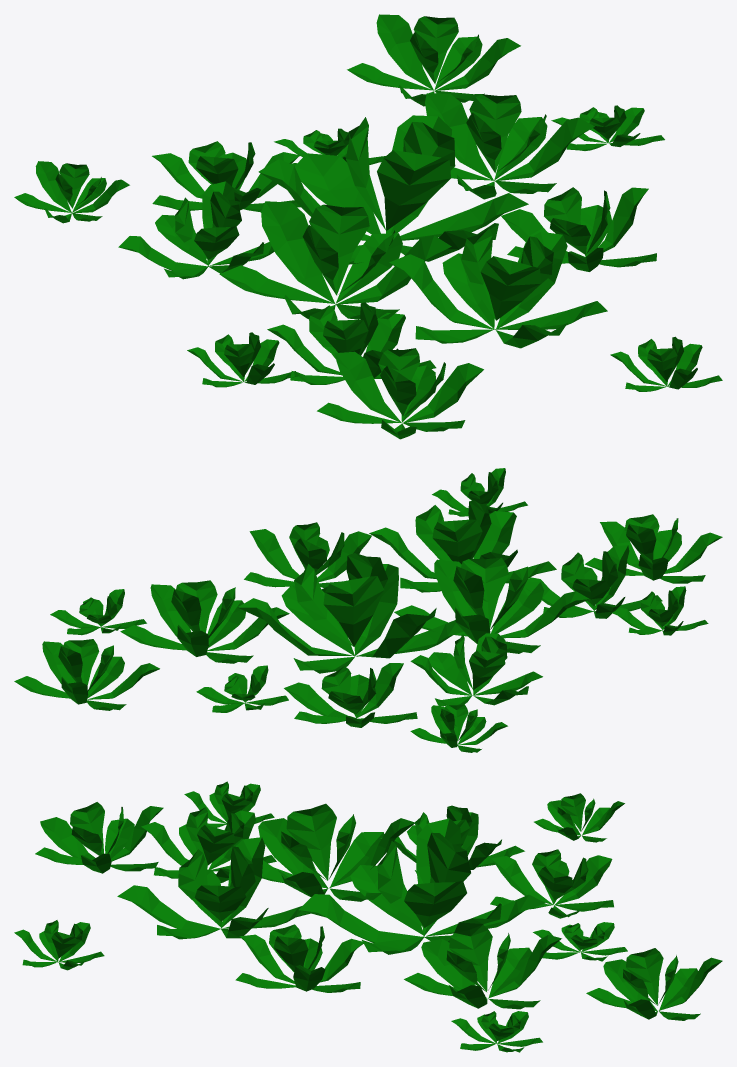
The model's file is bush.dae.
The picture shows the model from 3 angles, top to bottom: view 1: azimuth 30°, elevation 25°; view 2: azimuth 150°, elevation 25°; view 3: azimuth 270°, elevation 25°; orthographic projection. The views are drawn at different scales.
Visible parts, largest first — view 1: aqua03; view 2: aqua03; view 3: aqua03.
Boxes of the visible parts, x1,y1,x2,y2 form: aqua03: (14,14,722,439); aqua03: (14,468,722,752); aqua03: (14,781,722,1052).
Bounding box in the file's own units: 0.912 × 1.07 × 0.1598.
